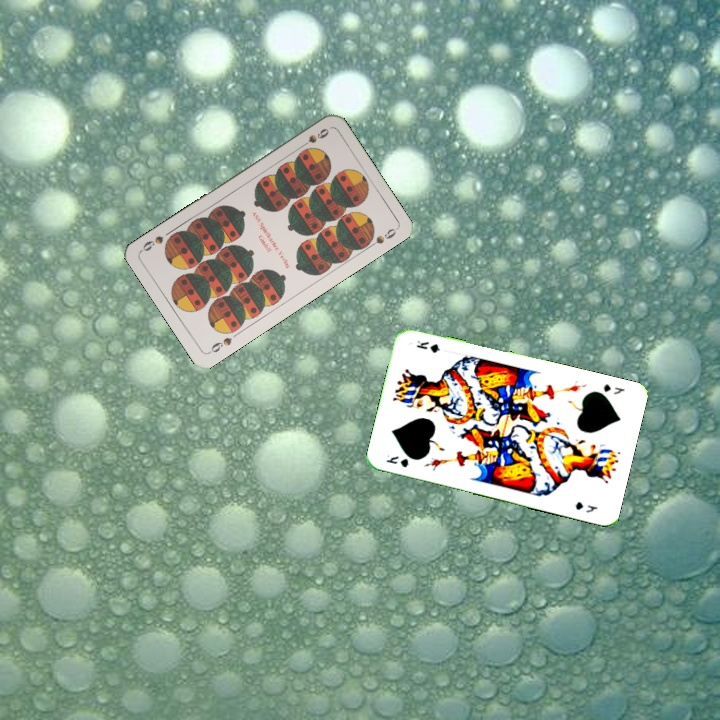GK: (382, 452, 411, 470), (599, 380, 627, 397)
S9: (295, 124, 332, 151), (205, 333, 234, 356)
